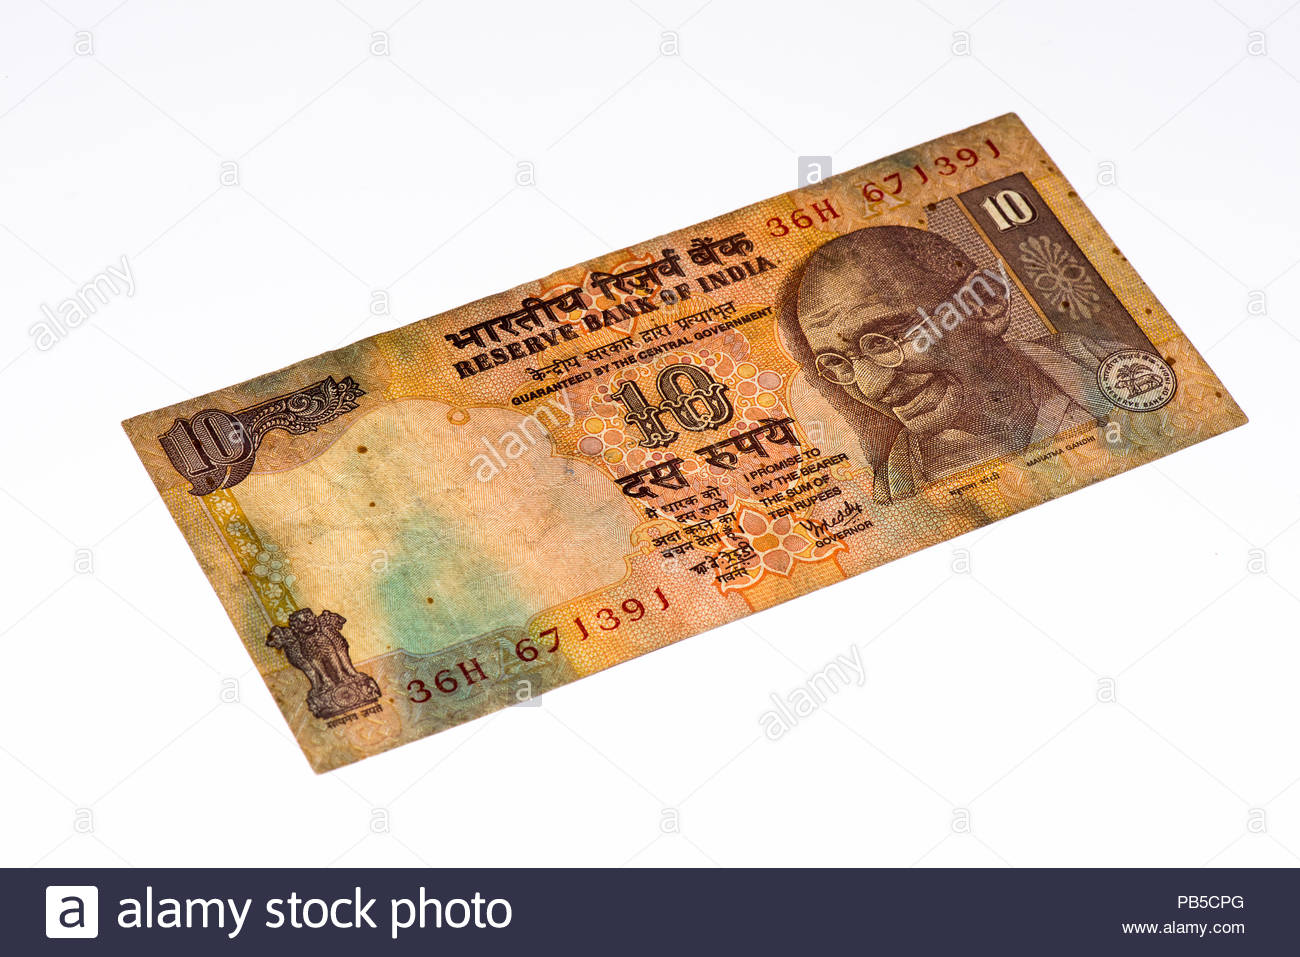ten_rupees_note: (121, 112, 1248, 776)
